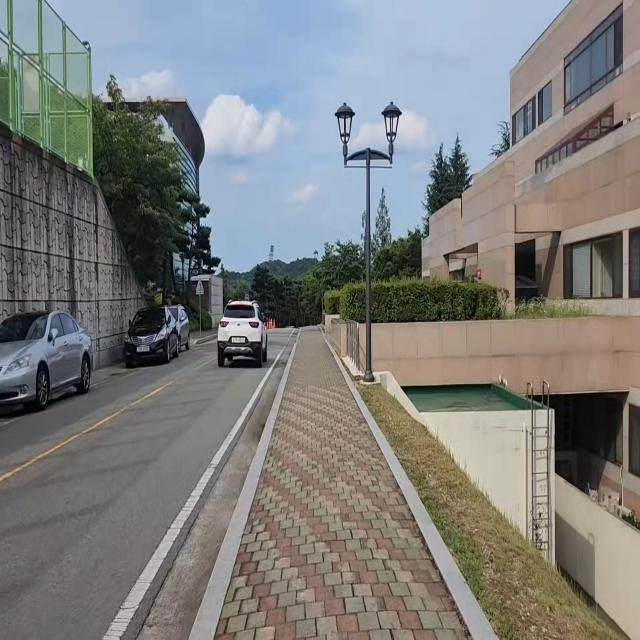obstacle: (0, 295, 99, 436), (122, 295, 198, 379), (215, 295, 270, 373)
road: (0, 333, 297, 640)
sidewalk: (195, 323, 503, 640)
